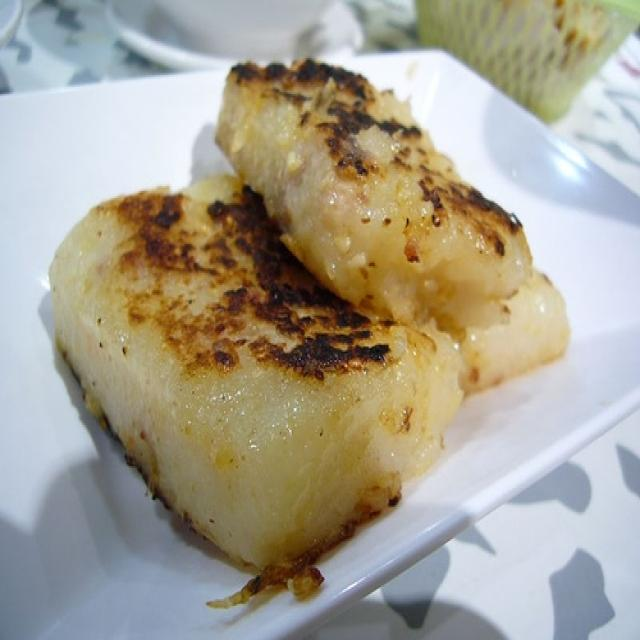蛋糕甜品: (5, 48, 634, 631)
